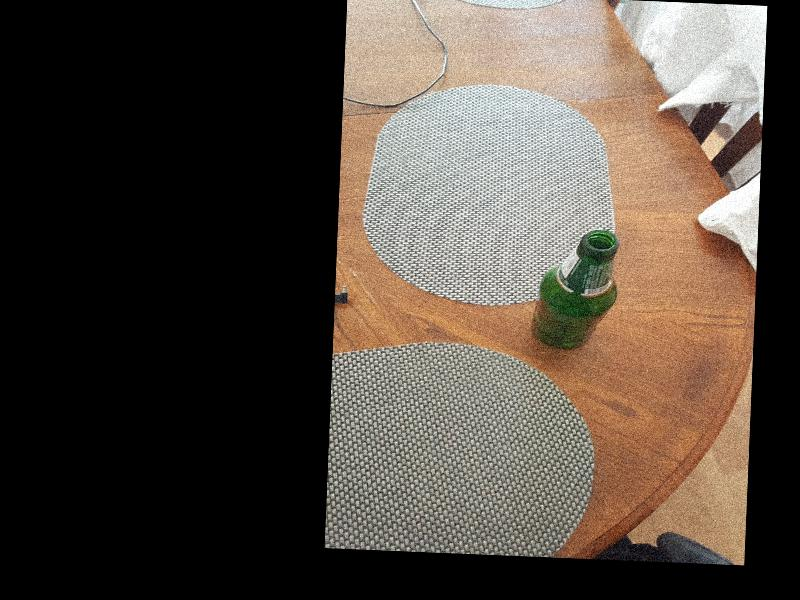Beer: (532, 227, 619, 353)
